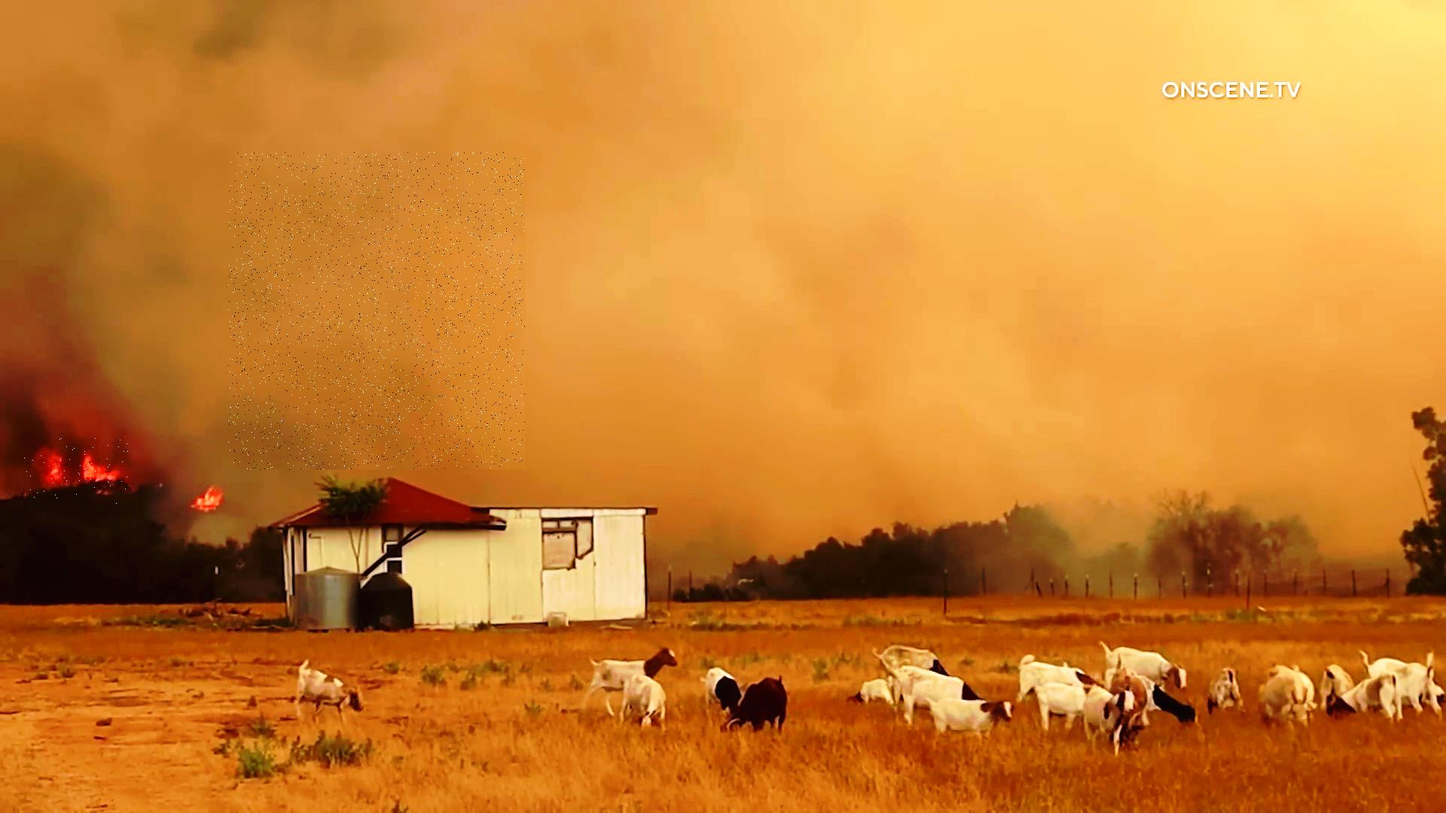fire: (23, 438, 129, 506)
smoke: (228, 152, 525, 470)
